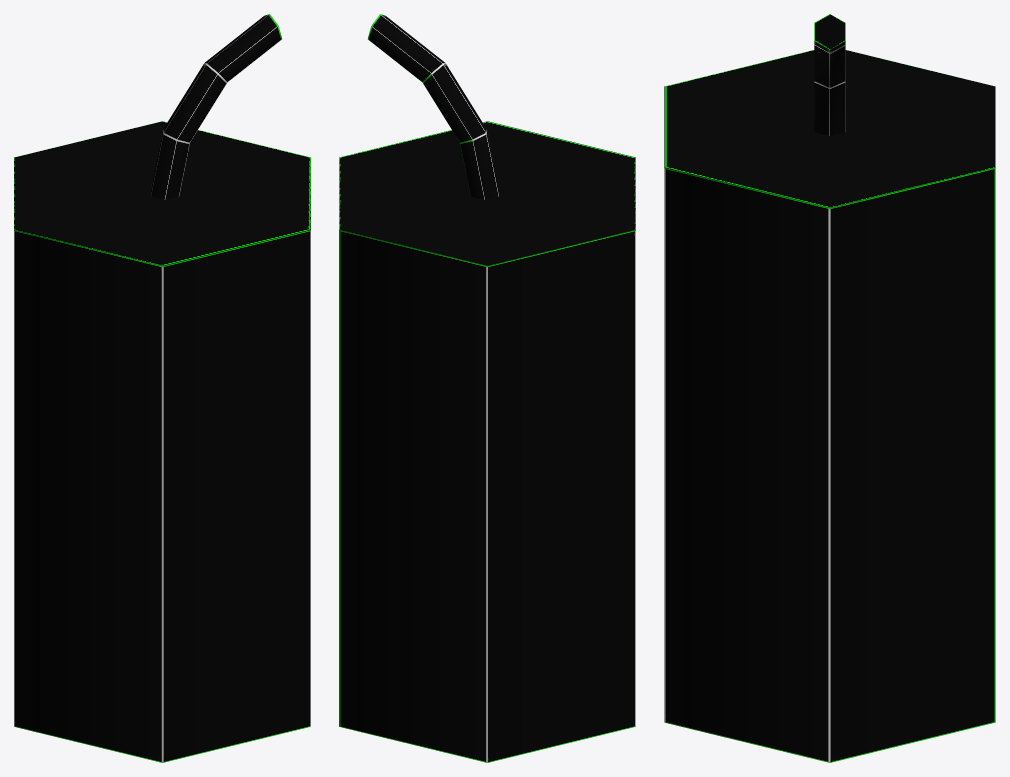
The model's file is Dynamite.FBX.
The picture shows the model from 3 angles, left to right: view 1: azimuth 30°, elevation 25°; view 2: azimuth 150°, elevation 25°; view 3: azimuth 270°, elevation 25°; orthographic projection. The views are drawn at different scales.
Parts seen in each view (by area): view 1: DynamiteBase, DynamiteFuse; view 2: DynamiteBase, DynamiteFuse; view 3: DynamiteBase, DynamiteFuse.
Boxes of the visible parts, x1,y1,x2,y2 form: DynamiteBase: [14, 121, 310, 762]; DynamiteFuse: [151, 14, 281, 199]; DynamiteBase: [339, 121, 635, 762]; DynamiteFuse: [368, 14, 498, 199]; DynamiteBase: [664, 50, 995, 762]; DynamiteFuse: [814, 14, 845, 135].
Bounding box in the file's own units: 17.64 × 36.94 × 15.27.
